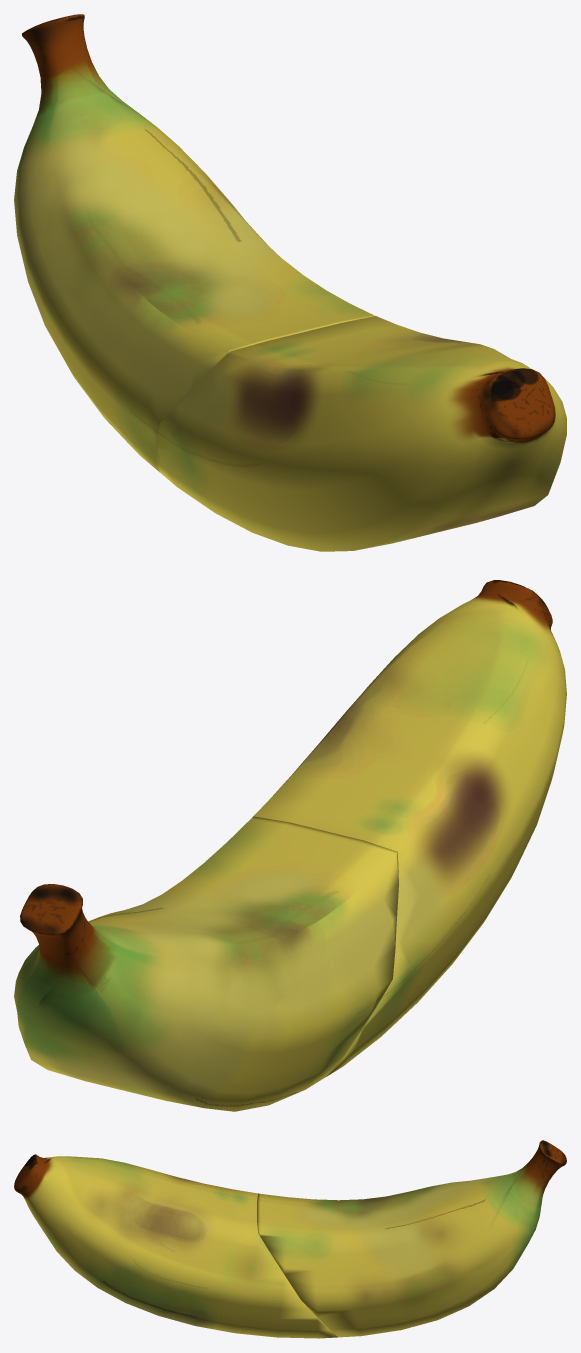
File: banana_cut.glb
3 views of the same model, one above another, from view 1: azimuth 30°, elevation 25°; view 2: azimuth 150°, elevation 25°; view 3: azimuth 270°, elevation 25° (orthographic). The views are drawn at different scales.
Visible parts, largest first — view 1: Banana, Banana.001; view 2: Banana.001, Banana; view 3: Banana, Banana.001.
Boxes of the visible parts, <box> form: Banana: <box>156,316,566,551</box>; Banana.001: <box>14,14,375,471</box>; Banana.001: <box>14,816,398,1111</box>; Banana: <box>253,580,566,1076</box>; Banana: <box>14,1154,337,1338</box>; Banana.001: <box>257,1140,566,1337</box>.
Bounding box in the file's own units: 9.96 × 12.57 × 36.57.
1 material, 1 textured.
